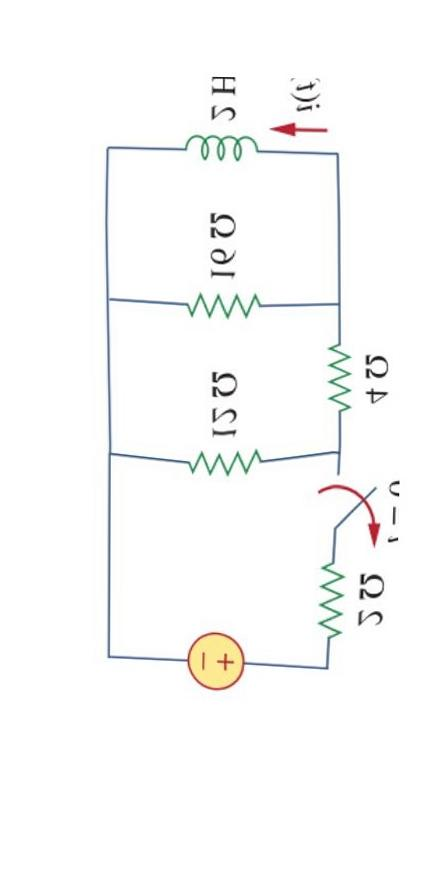Battery: (173, 610, 260, 704)
